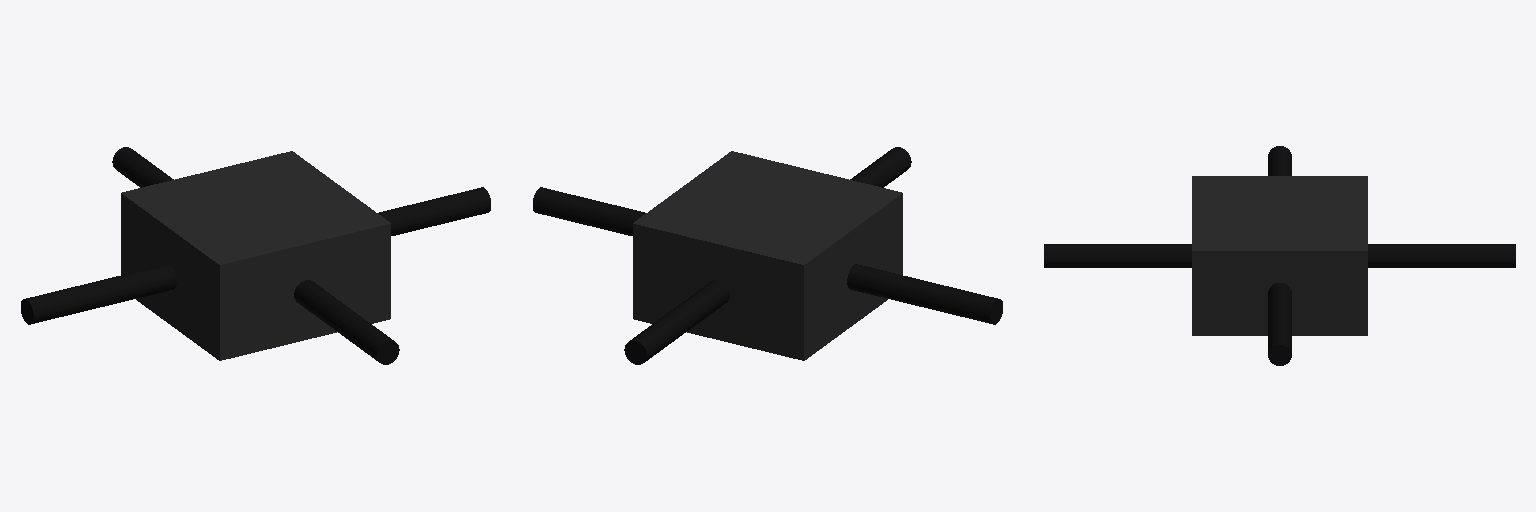
The robot description file, URDF, robot "test_export_quad":
<?xml version="1.0"?>
<robot name="test_export_quad">
  <!-- Base Link / Central Hub -->
  <link name="base_link">
    <inertial>
      <mass value="0.2000"/>
      <inertia ixx="0.000482" ixy="0" ixz="0" iyy="0.000482" iyz="0" izz="0.000750"/>
    </inertial>
    <visual>
      <geometry>
        <box size="0.15 0.15 0.08"/>
      </geometry>
      <material name="dark_grey"><color rgba="0.2 0.2 0.2 1.0"/></material>
    </visual>
    <collision>
      <geometry>
        <box size="0.15 0.15 0.08"/>
      </geometry>
    </collision>
  </link>
  <!-- Arm 0 -->
  <link name="arm_0">
    <inertial>
      <mass value="0.0225"/>
      <inertia ixx="0.0001" ixy="0" ixz="0" iyy="0.0001" iyz="0" izz="0002"/>
    </inertial>
    <visual>
      <geometry>
        <cylinder length="0.200" radius="0.01"/>
      </geometry>
      <material name="carbon"><color rgba="0.1 0.1 0.1 1.0"/></material>
    </visual>
  </link>
  <joint name="joint_base_arm_0" type="fixed">
    <parent link="base_link"/>
    <child link="arm_0"/>
    <origin xyz="0.1000 0.0000 0.0" rpy="0 1.5708 0.0000"/>
  </joint>
  <!-- Arm 1 -->
  <link name="arm_1">
    <inertial>
      <mass value="0.0225"/>
      <inertia ixx="0.0001" ixy="0" ixz="0" iyy="0.0001" iyz="0" izz="0002"/>
    </inertial>
    <visual>
      <geometry>
        <cylinder length="0.200" radius="0.01"/>
      </geometry>
      <material name="carbon"><color rgba="0.1 0.1 0.1 1.0"/></material>
    </visual>
  </link>
  <joint name="joint_base_arm_1" type="fixed">
    <parent link="base_link"/>
    <child link="arm_1"/>
    <origin xyz="0.0000 0.1000 0.0" rpy="0 1.5708 1.5708"/>
  </joint>
  <!-- Arm 2 -->
  <link name="arm_2">
    <inertial>
      <mass value="0.0225"/>
      <inertia ixx="0.0001" ixy="0" ixz="0" iyy="0.0001" iyz="0" izz="0002"/>
    </inertial>
    <visual>
      <geometry>
        <cylinder length="0.200" radius="0.01"/>
      </geometry>
      <material name="carbon"><color rgba="0.1 0.1 0.1 1.0"/></material>
    </visual>
  </link>
  <joint name="joint_base_arm_2" type="fixed">
    <parent link="base_link"/>
    <child link="arm_2"/>
    <origin xyz="-0.1000 0.0000 0.0" rpy="0 1.5708 3.1416"/>
  </joint>
  <!-- Arm 3 -->
  <link name="arm_3">
    <inertial>
      <mass value="0.0225"/>
      <inertia ixx="0.0001" ixy="0" ixz="0" iyy="0.0001" iyz="0" izz="0002"/>
    </inertial>
    <visual>
      <geometry>
        <cylinder length="0.200" radius="0.01"/>
      </geometry>
      <material name="carbon"><color rgba="0.1 0.1 0.1 1.0"/></material>
    </visual>
  </link>
  <joint name="joint_base_arm_3" type="fixed">
    <parent link="base_link"/>
    <child link="arm_3"/>
    <origin xyz="-0.0000 -0.1000 0.0" rpy="0 1.5708 4.7124"/>
  </joint>
</robot>

--- What the picture shows (computed from the rendered views, not written in the file) ---
Views: 3 orthographic renders of the robot side by side, from view 1: azimuth 30°, elevation 25°; view 2: azimuth 150°, elevation 25°; view 3: azimuth 270°, elevation 25°.
Robot: test_export_quad — 5 links, 4 joints (4 fixed); root link base_link; default pose: every joint at zero.
Visible links, largest first — view 1: base_link, arm_2, arm_3, arm_0, arm_1; view 2: base_link, arm_2, arm_1, arm_0, arm_3; view 3: base_link, arm_1, arm_3, arm_0, arm_2.
Boxes of the visible links, <box> form: base_link: <box>121,151,390,360</box>; arm_2: <box>21,264,176,324</box>; arm_3: <box>294,280,399,364</box>; arm_0: <box>378,187,490,235</box>; arm_1: <box>112,147,173,187</box>; base_link: <box>633,151,902,360</box>; arm_2: <box>847,264,1002,324</box>; arm_1: <box>624,280,729,364</box>; arm_0: <box>533,187,645,235</box>; arm_3: <box>850,147,911,187</box>; base_link: <box>1192,176,1367,335</box>; arm_1: <box>1368,244,1515,267</box>; arm_3: <box>1044,244,1191,267</box>; arm_0: <box>1268,283,1291,365</box>; arm_2: <box>1268,146,1291,175</box>.
Bounding box of the posed robot: 0.4 × 0.4 × 0.08 m (x, y, z).
Geometry: primitives only (box / cylinder / sphere), no mesh files.
